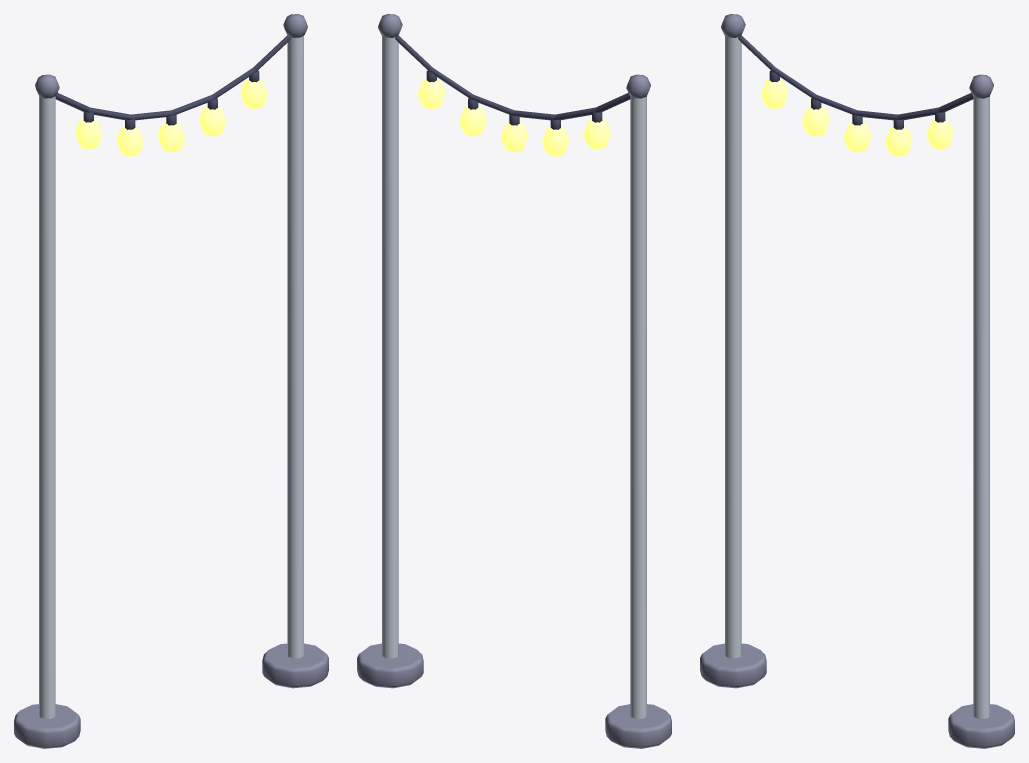
Rendered from string_lights.glb.
3 renders of one model, left to right at view 1: azimuth 30°, elevation 25°; view 2: azimuth 150°, elevation 25°; view 3: azimuth 330°, elevation 25°, orthographic.
Visible parts, largest first — view 1: Lights; view 2: Lights; view 3: Lights.
Part boxes in pixels (box(x1,y1,x2,y2)): Lights: box(14, 14, 328, 748); Lights: box(357, 14, 671, 748); Lights: box(700, 14, 1014, 748).
Size of the model in its own units: 1.23 by 2.55 by 0.2307.
